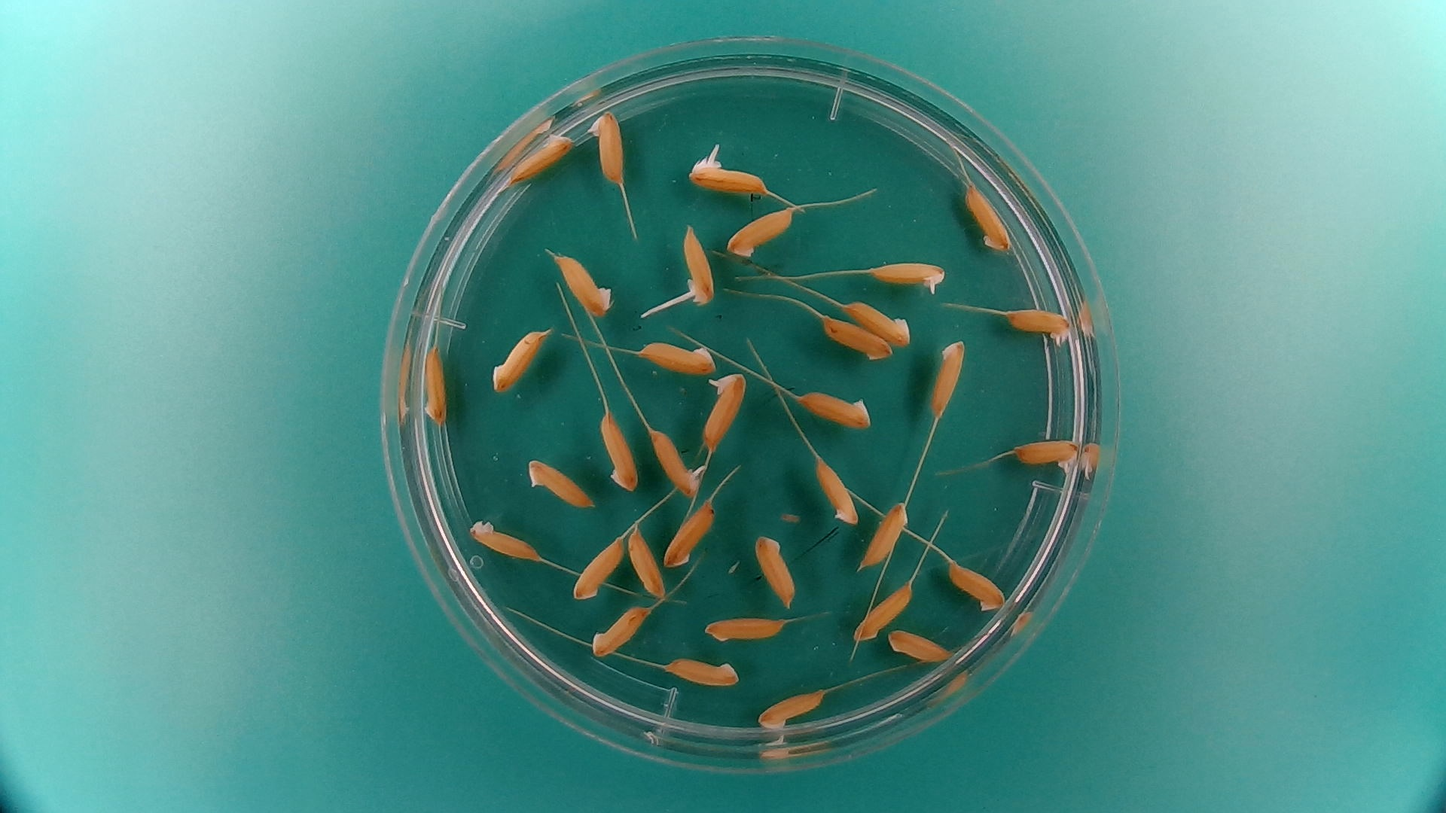no: (487, 323, 552, 396), (549, 248, 616, 318), (723, 202, 798, 260), (960, 176, 1014, 256), (856, 501, 913, 574), (850, 580, 914, 644), (815, 313, 895, 364), (523, 455, 597, 510), (465, 516, 545, 565), (663, 498, 718, 569), (506, 129, 578, 183), (750, 531, 798, 611), (570, 532, 625, 600), (839, 298, 914, 347), (597, 409, 640, 493), (794, 387, 876, 431), (812, 455, 861, 528), (755, 686, 828, 735), (589, 604, 654, 659), (945, 556, 1006, 614), (584, 105, 627, 187), (929, 333, 969, 420), (634, 335, 717, 376), (625, 524, 667, 598), (701, 611, 789, 645), (660, 655, 742, 690), (420, 341, 450, 428), (886, 626, 951, 664)
yes: (646, 425, 706, 499), (700, 368, 749, 455), (1003, 303, 1076, 349), (1011, 434, 1083, 476), (868, 257, 946, 292), (688, 161, 771, 192), (684, 226, 715, 309)
